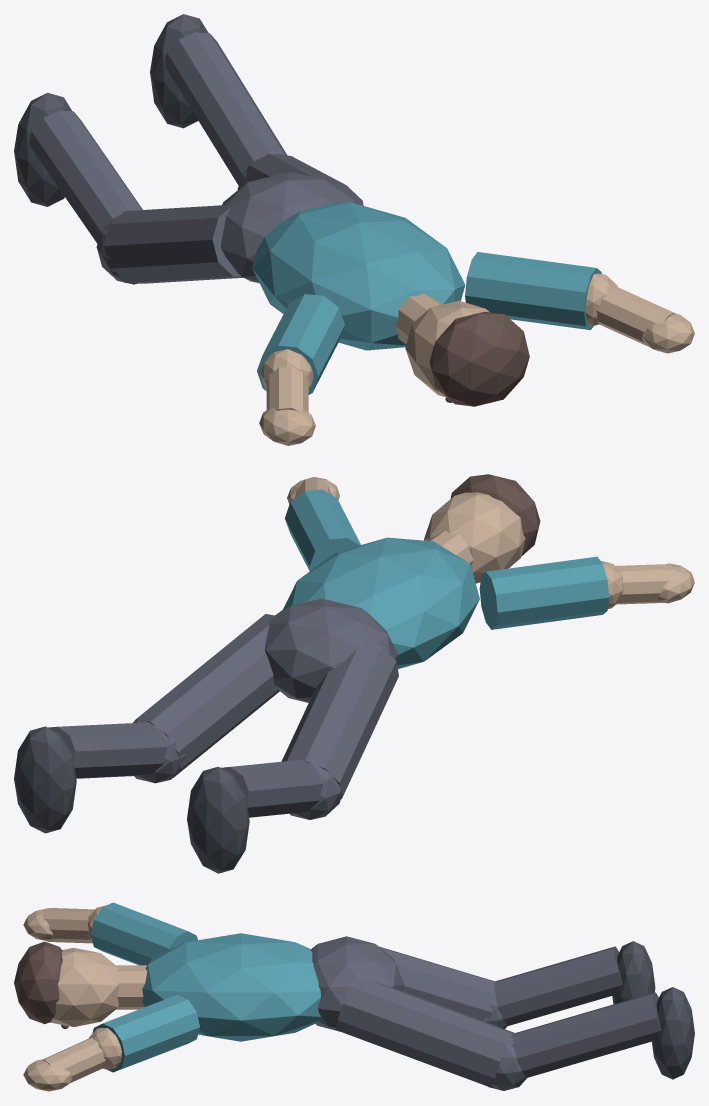
3 views of the same model, one above another, from view 1: azimuth 30°, elevation 25°; view 2: azimuth 150°, elevation 25°; view 3: azimuth 270°, elevation 25° (orthographic). The views are drawn at different scales.
Visible parts, largest first — view 1: world; view 2: world; view 3: world.
Part boxes in pixels (box(x1,y1,x2,y2)): world: box(14, 14, 694, 445); world: box(14, 474, 694, 873); world: box(14, 902, 694, 1091).
Size of the model in its own units: 1.17 by 0.3942 by 2.
